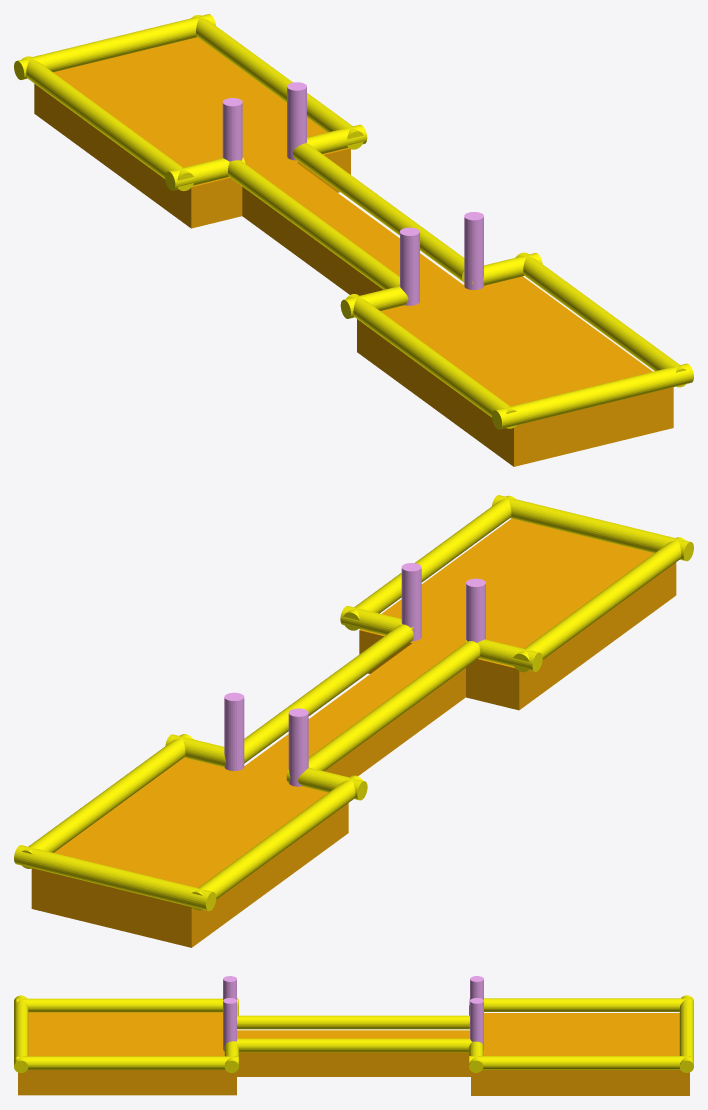
The model's file is Ground.fbx.
3 views of the same model, one above another, from view 1: azimuth 30°, elevation 25°; view 2: azimuth 150°, elevation 25°; view 3: azimuth 270°, elevation 25° (orthographic). The views are drawn at different scales.
Visible parts, largest first — view 1: Cube, Cube.001, Cylinder.008, Cylinder.002, Cylinder.009, Cylinder.005, Cylinder, Cylinder.001, Cylinder.006, Cylinder.004, Cylinder.007, Cylinder.003 (+4 smaller); view 2: Cube, Cube.001, Cylinder.008, Cylinder.006, Cylinder.009, Cylinder, Cylinder.005, Cylinder.004, Cylinder.002, Cylinder.001, Cylinder.003, Cylinder.007 (+4 smaller); view 3: Cube, Cube.001, Cylinder.008, Cylinder.009, Cylinder, Cylinder.001, Cylinder.004, Cylinder.005, Cylinder.002, Cylinder.006, Cylinder.011, Cylinder.013 (+4 smaller).
Part boxes in pixels (box(x1,y1,x2,y2)): Cube: box(242, 162, 673, 466); Cube.001: box(34, 37, 350, 228); Cylinder.008: box(228, 160, 399, 289); Cylinder.002: box(492, 363, 693, 429); Cylinder.009: box(293, 143, 464, 282); Cylinder.005: box(21, 56, 193, 191); Cylinder: box(346, 294, 516, 428); Cylinder.001: box(515, 252, 686, 387); Cylinder.006: box(14, 14, 215, 79); Cylinder.004: box(191, 15, 363, 149); Cylinder.007: box(165, 124, 367, 190); Cylinder.003: box(340, 253, 542, 318); Cube: box(245, 518, 676, 777); Cube.001: box(31, 757, 348, 947); Cylinder.008: box(308, 641, 480, 770); Cylinder.006: box(14, 845, 216, 911); Cylinder.009: box(244, 624, 413, 763); Cylinder: box(513, 537, 685, 672); Cylinder.005: box(192, 775, 362, 910); Cylinder.004: box(22, 734, 192, 868); Cylinder.002: box(492, 495, 693, 561); Cylinder.001: box(343, 495, 515, 630); Cylinder.003: box(340, 606, 542, 671); Cylinder.007: box(165, 734, 367, 800); Cube: box(18, 1012, 470, 1095); Cube.001: box(471, 1013, 689, 1095); Cylinder.008: box(237, 1015, 469, 1029); Cylinder.009: box(237, 1038, 471, 1052); Cylinder: box(16, 998, 238, 1012); Cylinder.001: box(16, 1056, 238, 1069); Cylinder.004: box(469, 1056, 691, 1069); Cylinder.005: box(469, 998, 691, 1011); Cylinder.002: box(14, 995, 28, 1072); Cylinder.006: box(679, 995, 693, 1072); Cylinder.011: box(223, 998, 236, 1050); Cylinder.013: box(470, 998, 483, 1050).
Size of the model in its own units: 668 by 372 by 2935.
